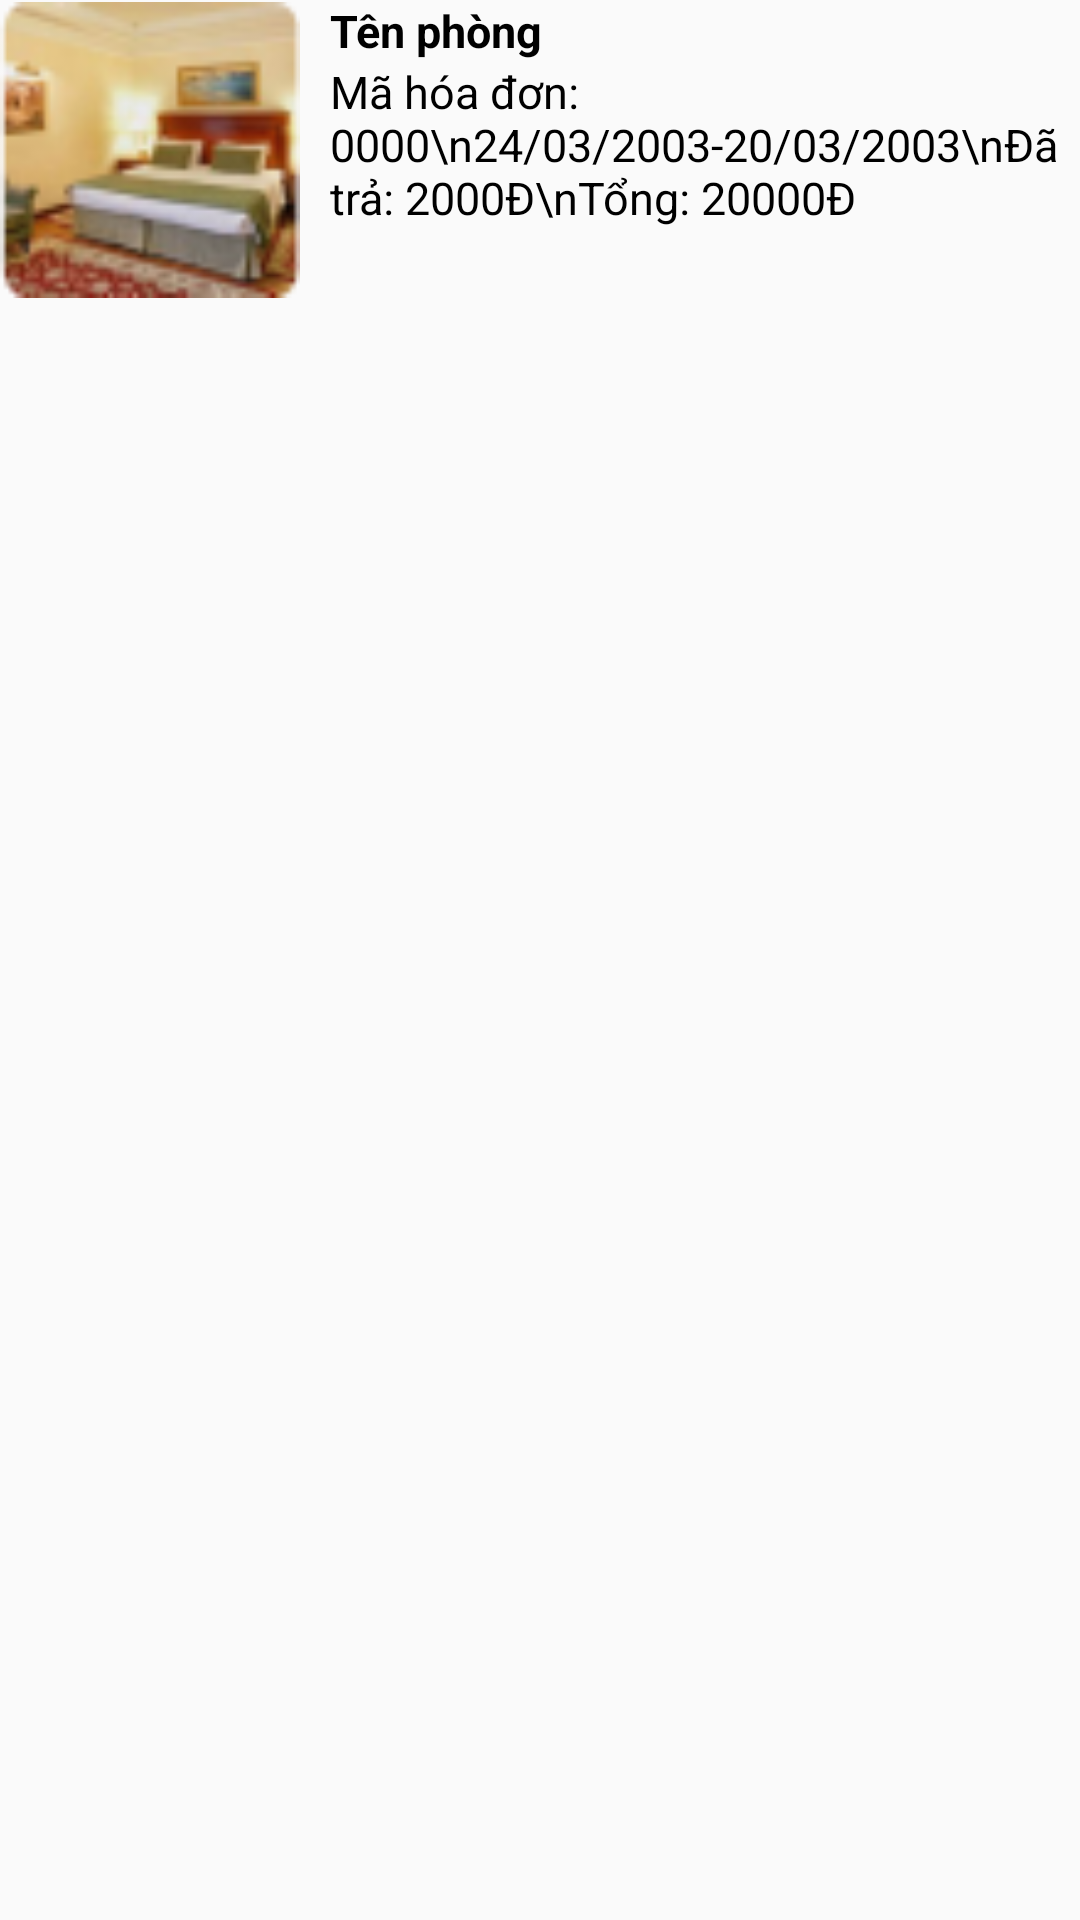

Icon bounding boxes for this 1080*1920 phone screenshot, format (x1, y1, x2, y2):
phong example: (0, 2, 300, 298)
